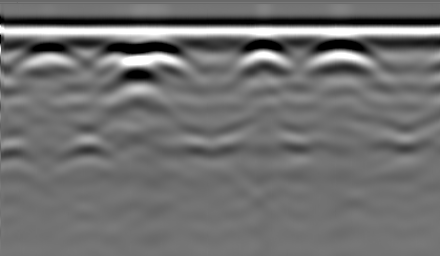steel: (311, 41, 371, 72), (133, 40, 184, 69), (240, 39, 284, 68), (24, 43, 71, 70)
